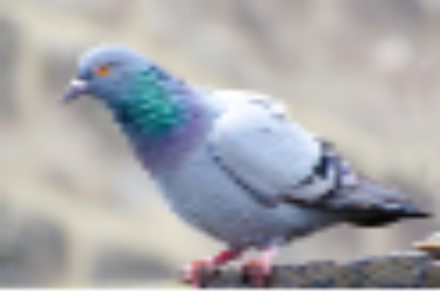pigeon: (55, 39, 435, 289)
